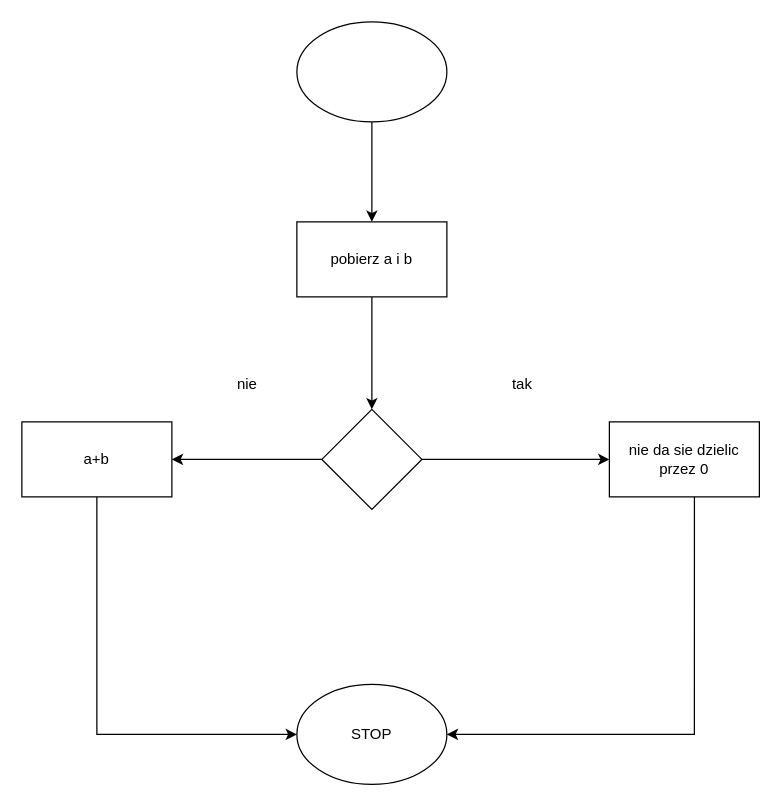
Some shapes in this 781 by 806 pixel diagram are drawn without their labels. Each missing label, with the centre of its shape:
b=0: the point at 371,458
START: the point at 371,71
